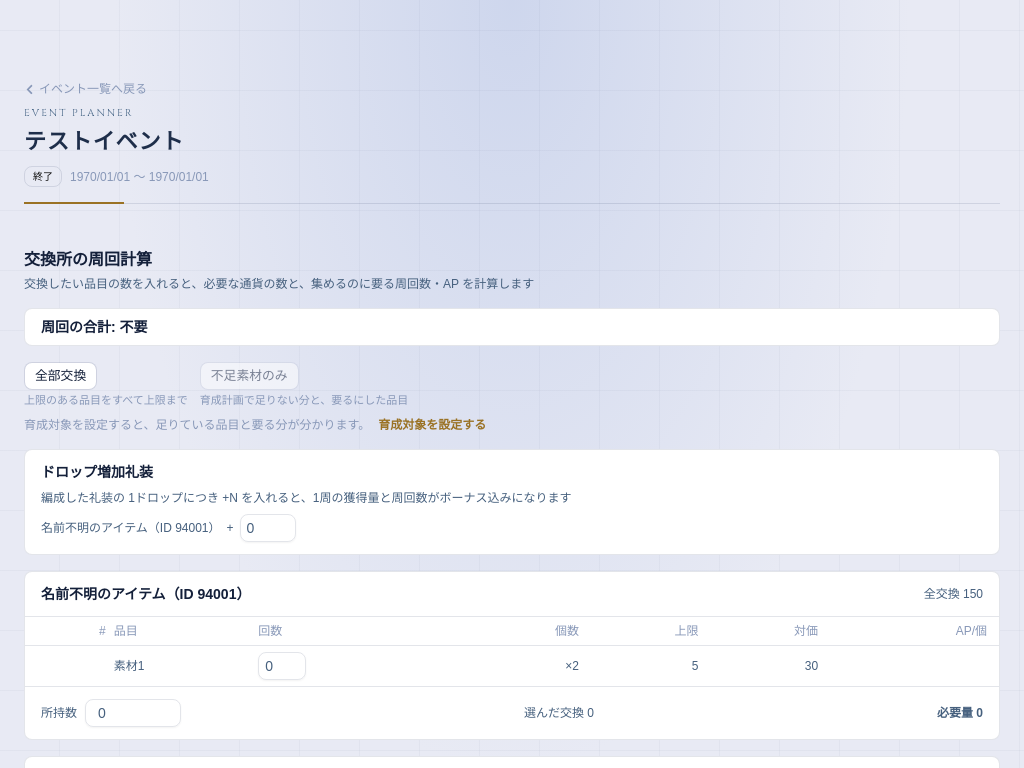
Scenario: EventHubClient › 全部交換と AP 予算 › 周回が不要なとき・ドロップの統計が無いときは AP 予算を出さない
Replace the text in the number field named "素材1 の交換回数" with "2" at (282, 666), box [258,652,306,680]
(page scrolled)
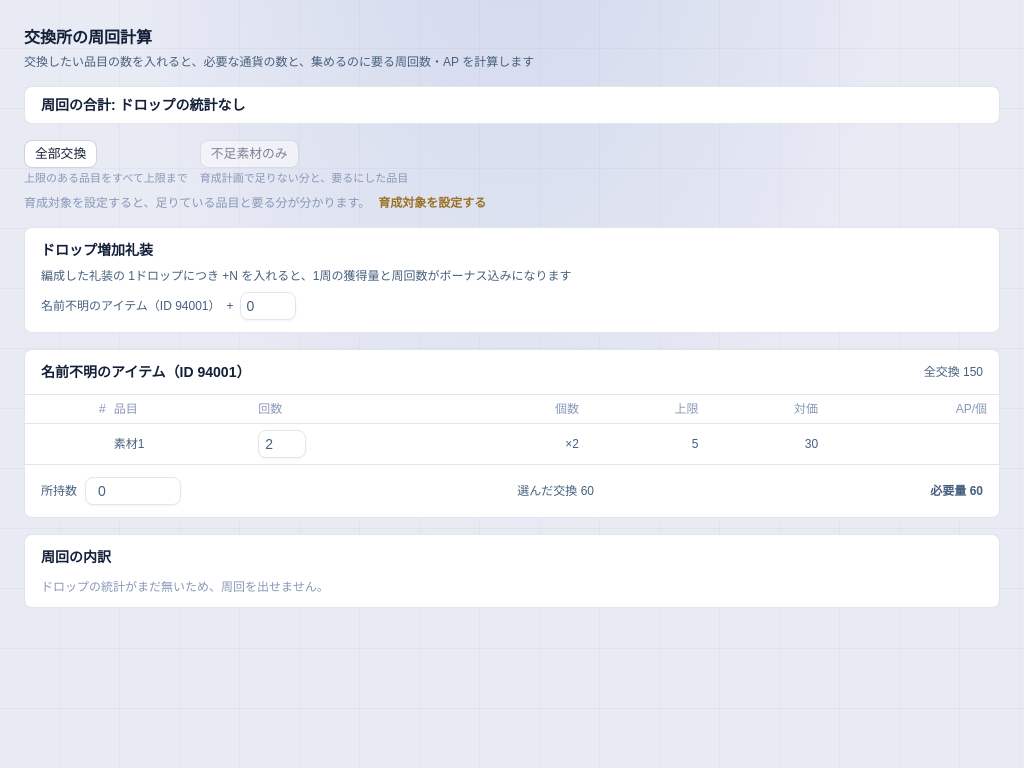
expect the text "ドロップの統計がまだ無いため、周回を出せません。" is shown: met, box [41,580,329,594]
